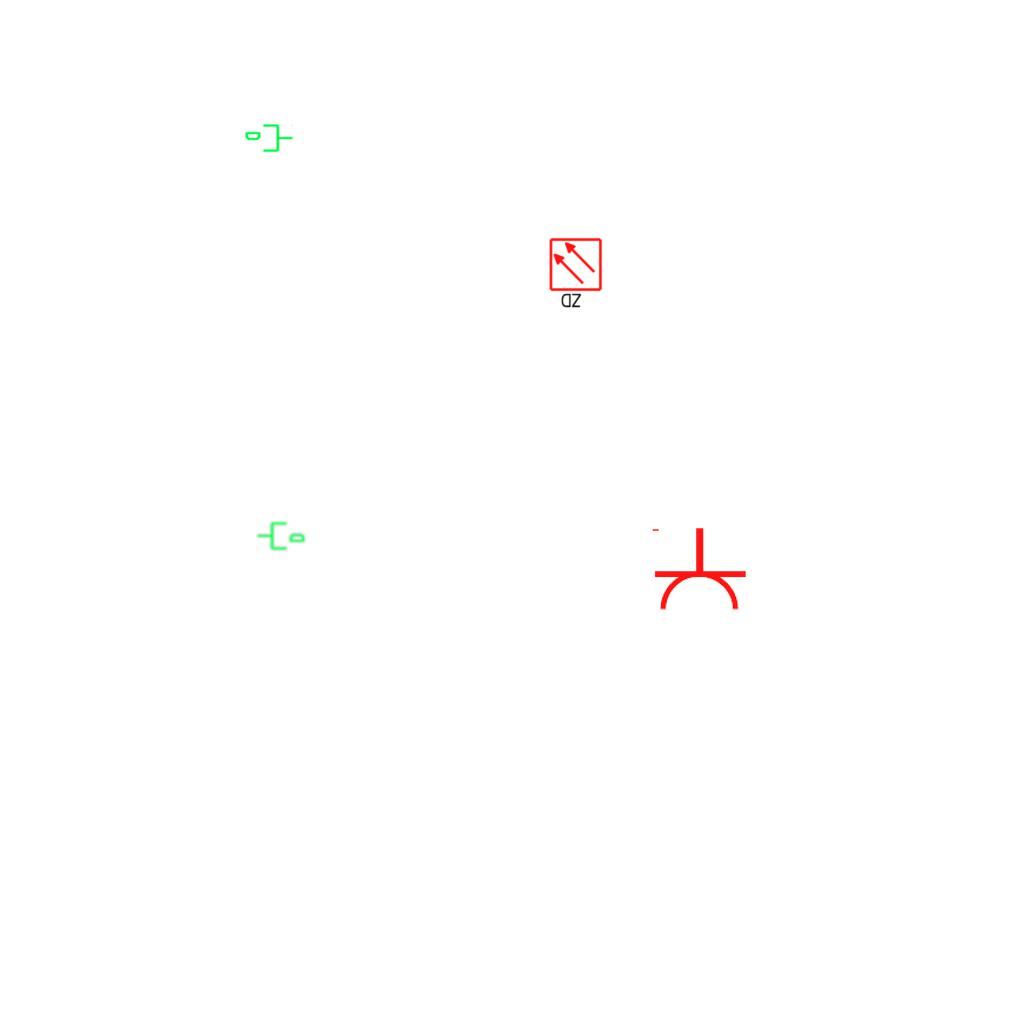Datenanschluss_einfach: (256, 518, 306, 552), (244, 122, 294, 156)
Schukosteckdose_einfach: (648, 526, 748, 613)
ZD_Melder_in_Zwischendecke_mit_Revisionsoeffnung_mind_40_x_40_cm: (548, 237, 605, 311)
